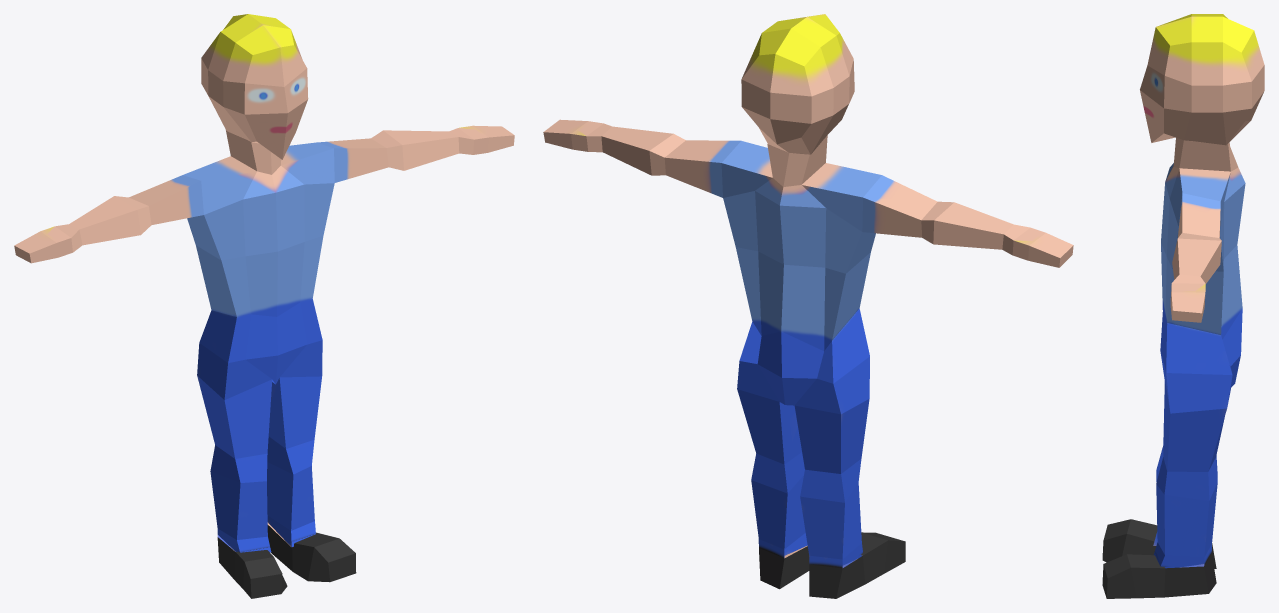
Rendered from analjoemodel.fbx.
3 renders of one model, left to right at view 1: azimuth 30°, elevation 25°; view 2: azimuth 150°, elevation 25°; view 3: azimuth 270°, elevation 25°, orthographic. The views are drawn at different scales.
Parts seen in each view (by area): view 1: Player; view 2: Player; view 3: Player.
Boxes of the visible parts, x1,y1,x2,y2 form: Player: (14,14,514,598); Player: (543,14,1073,598); Player: (1102,14,1264,598).
Bounding box in the file's own units: 1255 × 1315 × 345.
1 material, 1 textured.
